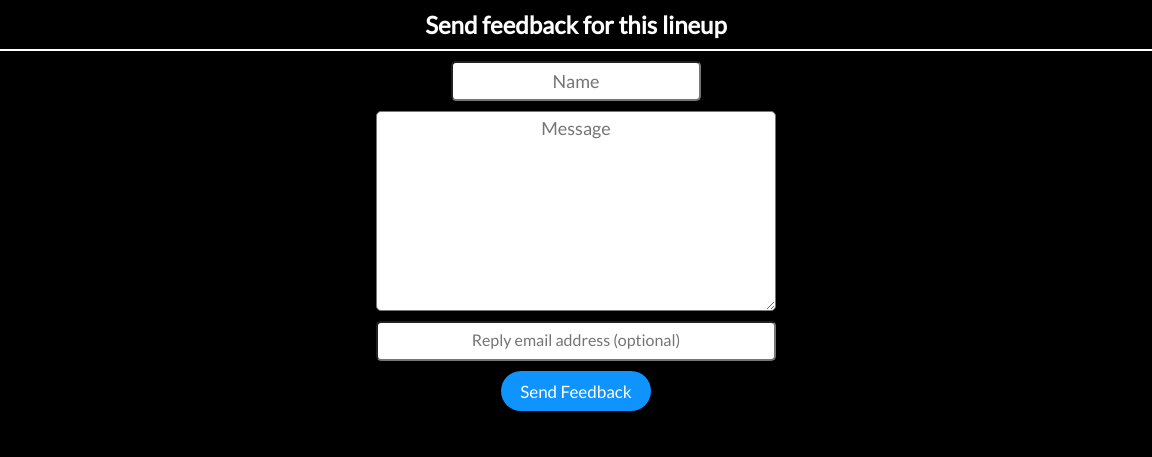
EmailForm › allows one request at a time, trims fields, and clears the close timer on unmount
The width and height of the screenshot is (1152, 457).
Type " Viewer " into the field labelled "Name" at (576,81), box [451,61,701,101]
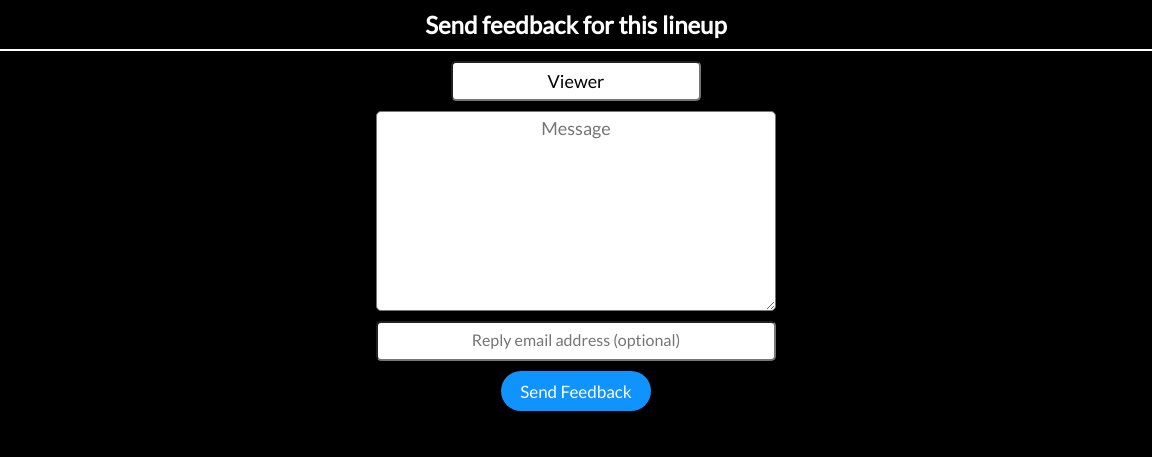
Type " Feedback details " into the text box labelled "Message" at (576,211), box [376,111,776,311]
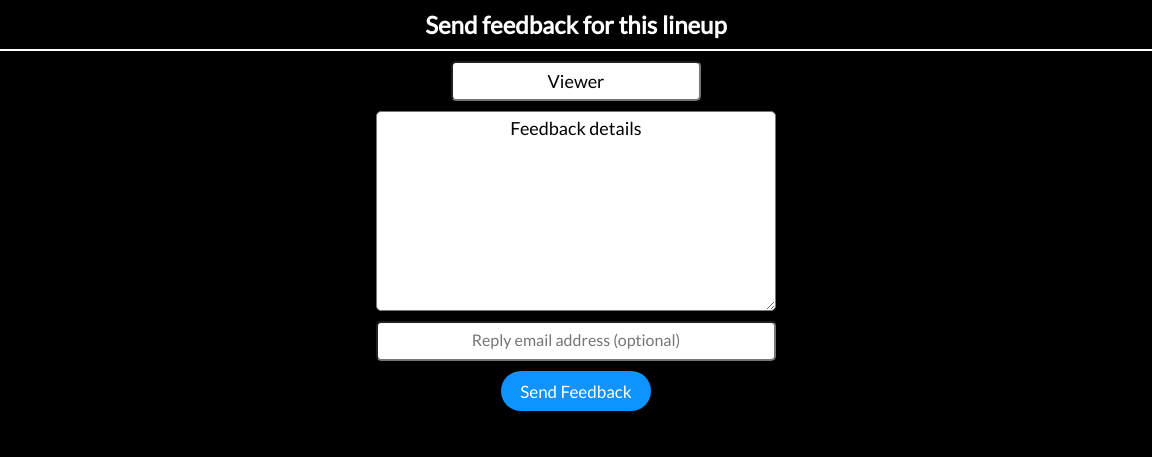
Click the button "Send Feedback" at (576,391), box [501,371,651,411]
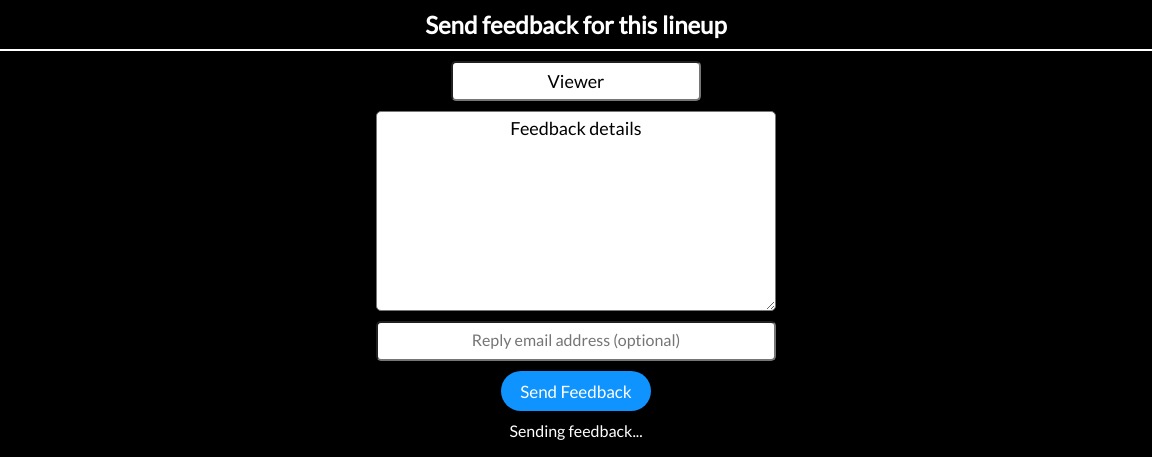
Click the button "Send Feedback" at (576,391), box [501,371,651,411]
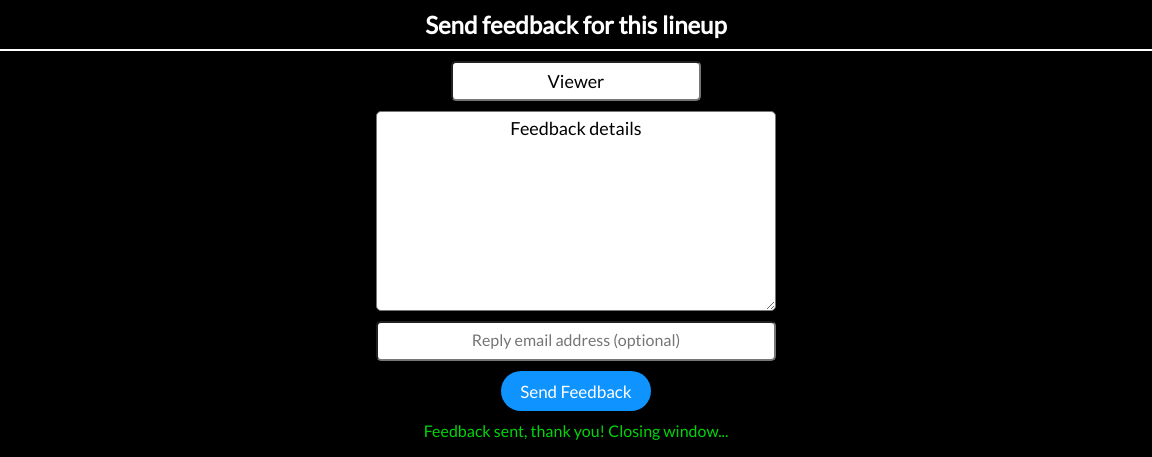
Result: the message shows "Feedback sent" at [424,421,728,440]
